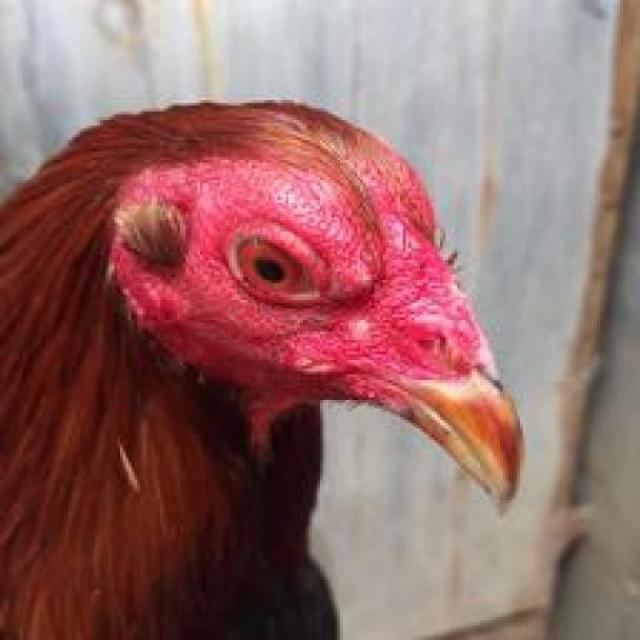Chicken: (0, 73, 565, 630)
